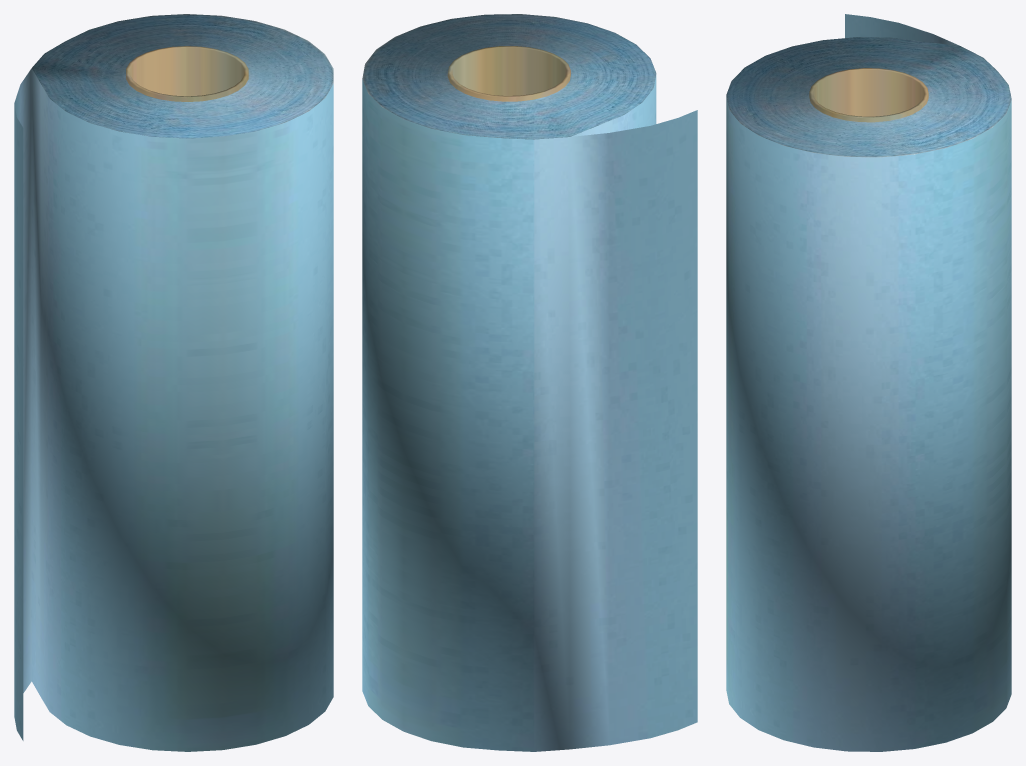
Rendered from Papertowel.glb.
The picture shows the model from 3 angles, left to right: view 1: azimuth 30°, elevation 25°; view 2: azimuth 150°, elevation 25°; view 3: azimuth 270°, elevation 25°; orthographic projection. The views are drawn at different scales.
Visible parts, largest first — view 1: Cylinder; view 2: Cylinder; view 3: Cylinder.
Boxes of the visible parts, x1,y1,x2,y2 form: Cylinder: (14,14,333,751); Cylinder: (362,14,697,751); Cylinder: (726,14,1011,751).
Size of the model in its own units: 2.43 by 4.8 by 2.05.
1 material, 1 textured.
